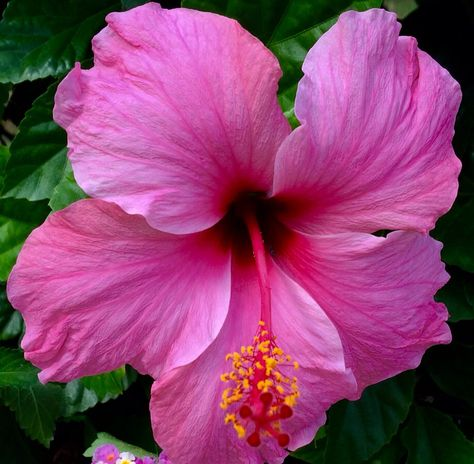Hibiscus: (9, 1, 464, 459)
